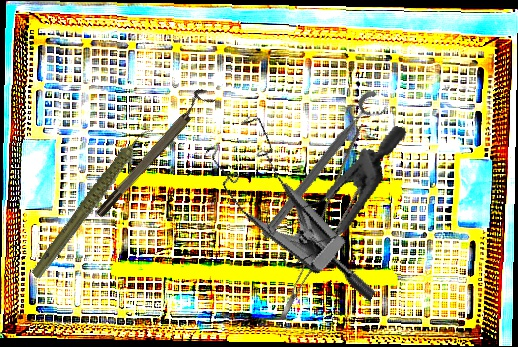Fixation Ring: (256, 87, 393, 249), (88, 85, 217, 220)
Handpiece: (5, 124, 182, 282)
Speculum: (179, 102, 423, 305), (255, 100, 408, 288)
Tissue Forceps: (248, 123, 397, 321)
